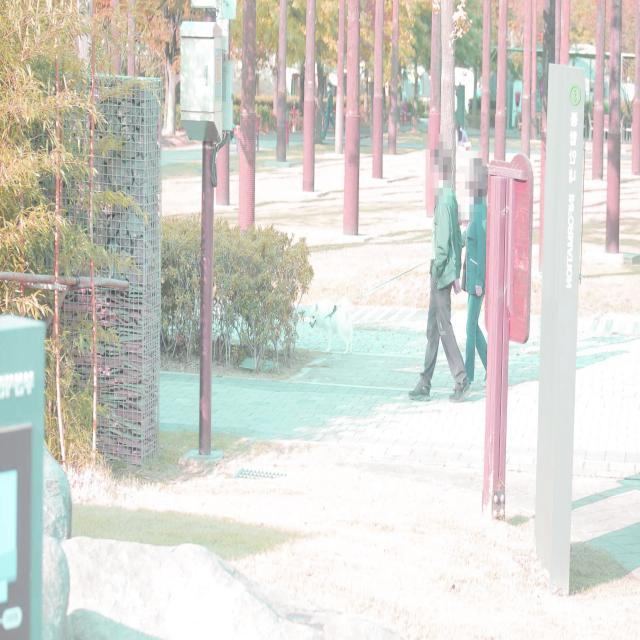Leashed_Dog: (309, 248, 442, 355)
